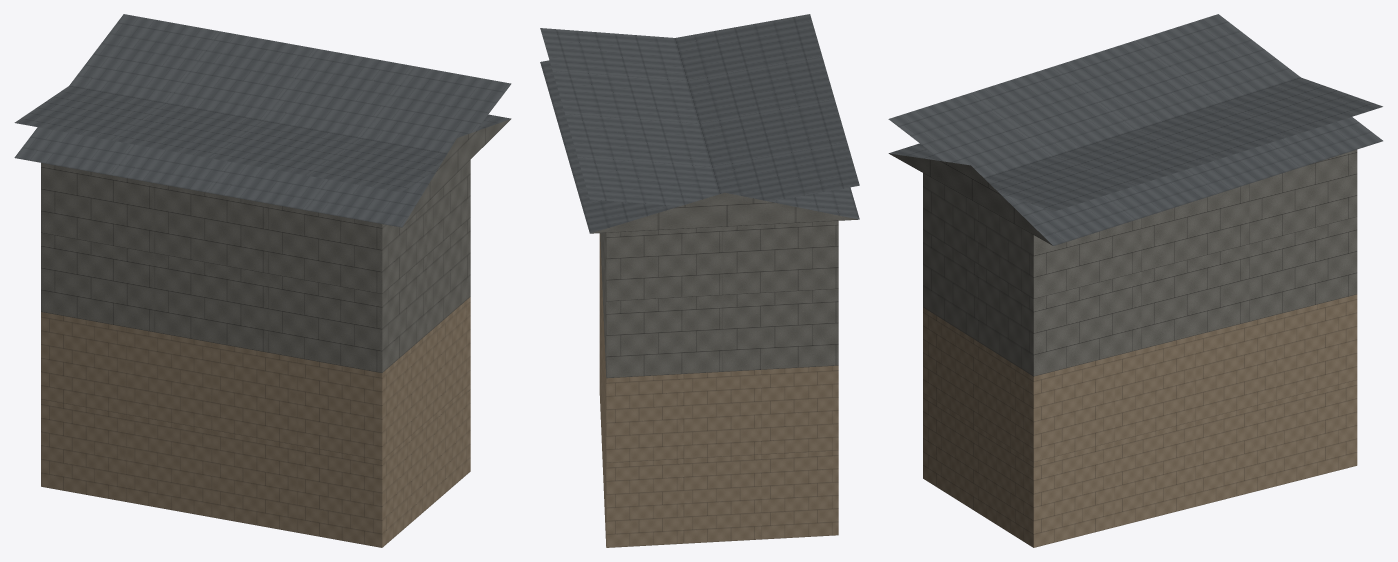
File: bld_c-7_36_385.gltf
3 views of the same model, side by side, from view 1: azimuth 30°, elevation 25°; view 2: azimuth 150°, elevation 25°; view 3: azimuth 270°, elevation 25° (orthographic). The views are drawn at different scales.
Parts seen in each view (by area): view 1: bld_c-7_36_385; view 2: bld_c-7_36_385; view 3: bld_c-7_36_385.
Boxes of the visible parts, bbox=[...] form: bld_c-7_36_385: bbox=[14, 14, 511, 547]; bld_c-7_36_385: bbox=[540, 14, 859, 547]; bld_c-7_36_385: bbox=[888, 14, 1382, 547].
Size of the model in its own units: 12.35 by 10.5 by 13.07.
4 materials, 4 textured.
